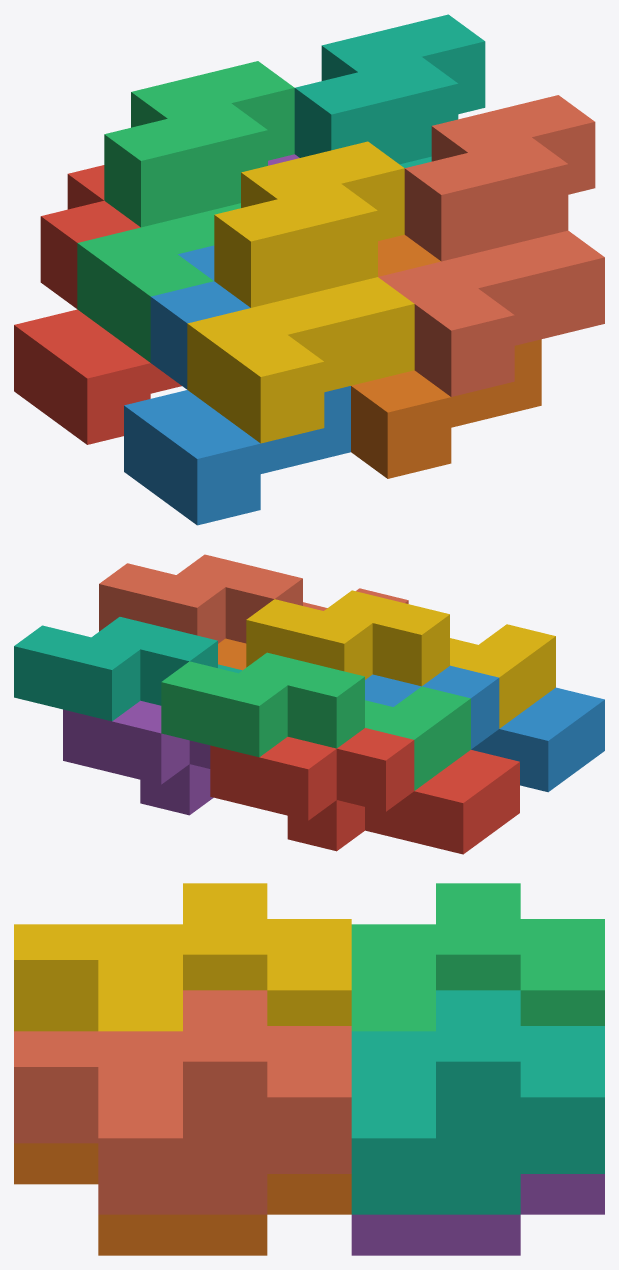
Rendered from tiling.obj.
3 views of the same model, one above another, from view 1: azimuth 30°, elevation 25°; view 2: azimuth 150°, elevation 25°; view 3: azimuth 270°, elevation 25° (orthographic). The views are drawn at different scales.
Visible parts, largest first — view 1: copy_1_domain_4, copy_1_domain_8, copy_1_domain_3, copy_1_domain_2, copy_1_domain_7, copy_1_domain_1, copy_1_domain_6; view 2: copy_1_domain_1, copy_1_domain_3, copy_1_domain_4, copy_1_domain_7, copy_1_domain_2, copy_1_domain_8, copy_1_domain_5, copy_1_domain_6; view 3: copy_1_domain_8, copy_1_domain_7, copy_1_domain_4, copy_1_domain_3, copy_1_domain_6, copy_1_domain_5.
Boxes of the visible parts, box(x1,y1,x2,y2) form: copy_1_domain_4: box(187, 141, 414, 443); copy_1_domain_8: box(378, 95, 604, 396); copy_1_domain_3: box(77, 61, 294, 362); copy_1_domain_2: box(124, 245, 350, 525); copy_1_domain_7: box(294, 14, 485, 167); copy_1_domain_1: box(14, 165, 181, 444); copy_1_domain_6: box(351, 234, 541, 478); copy_1_domain_1: box(210, 728, 519, 854); copy_1_domain_3: box(161, 652, 470, 790); copy_1_domain_4: box(246, 590, 555, 728); copy_1_domain_7: box(14, 617, 242, 721); copy_1_domain_2: box(365, 665, 604, 792); copy_1_domain_8: box(99, 554, 408, 643); copy_1_domain_5: box(63, 700, 213, 815); copy_1_domain_6: box(218, 638, 246, 670); copy_1_domain_8: box(14, 990, 351, 1214); copy_1_domain_7: box(351, 990, 604, 1214); copy_1_domain_4: box(14, 883, 351, 1031); copy_1_domain_3: box(351, 883, 604, 1031); copy_1_domain_6: box(14, 1143, 351, 1255); copy_1_domain_5: box(351, 1174, 604, 1255).
Size of the model in its own units: 8 by 3 by 7.
